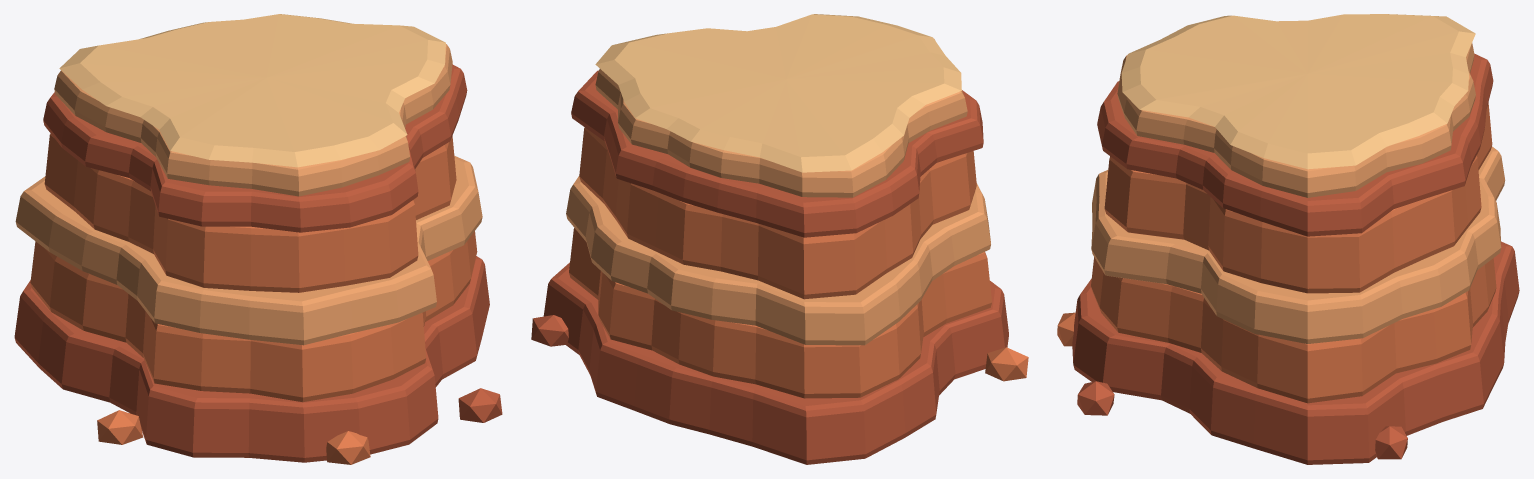
The model's file is mesa_rock.glb.
3 renders of one model, left to right at view 1: azimuth 30°, elevation 25°; view 2: azimuth 150°, elevation 25°; view 3: azimuth 270°, elevation 25°, orthographic. The views are drawn at different scales.
Parts seen in each view (by area): view 1: mesa_rock; view 2: mesa_rock; view 3: mesa_rock.
Boxes of the visible parts, x1,y1,x2,y2 form: mesa_rock: (14, 14, 502, 464); mesa_rock: (531, 14, 1028, 464); mesa_rock: (1057, 14, 1519, 464).
Bounding box in the file's own units: 11.27 × 7.25 × 10.59.
